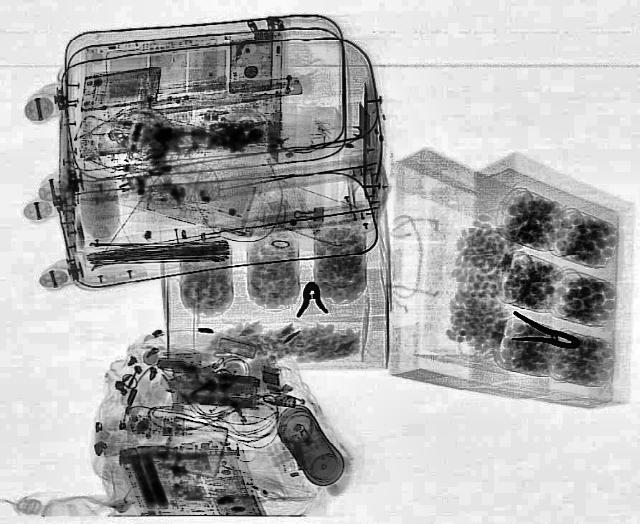Pliers: (502, 311, 584, 355), (293, 280, 327, 314)
